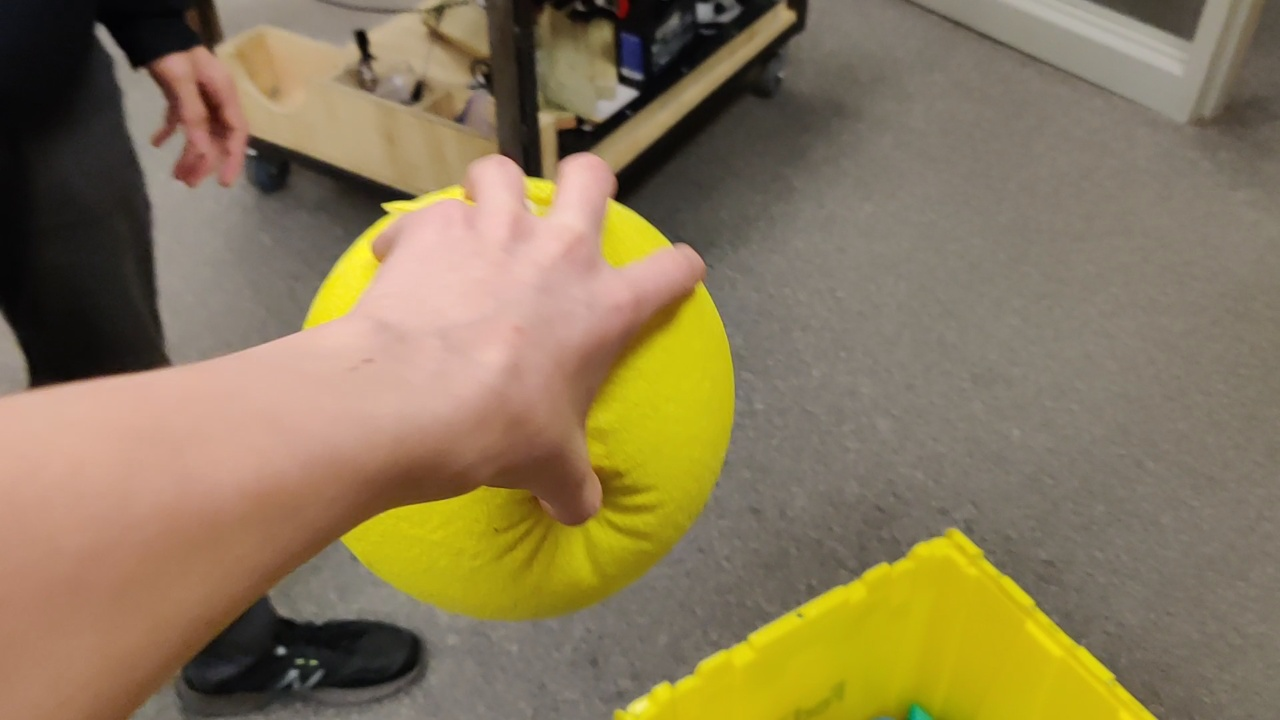Ball: (330, 273, 737, 617)
